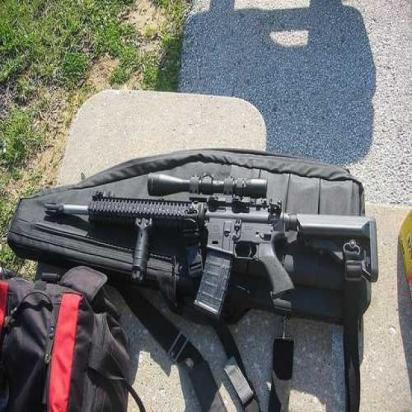Gun: (49, 173, 378, 284)
